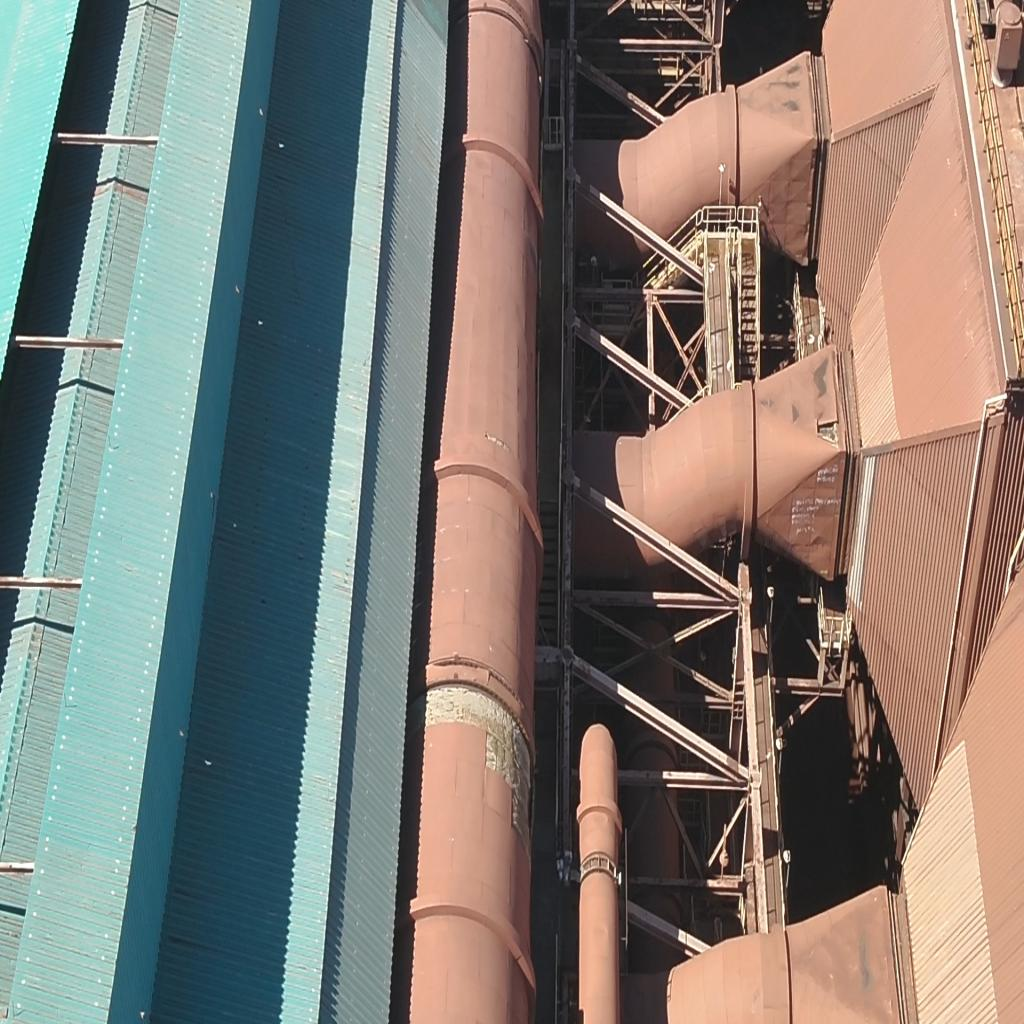Failures: (407, 672, 532, 820), (817, 406, 843, 454)
